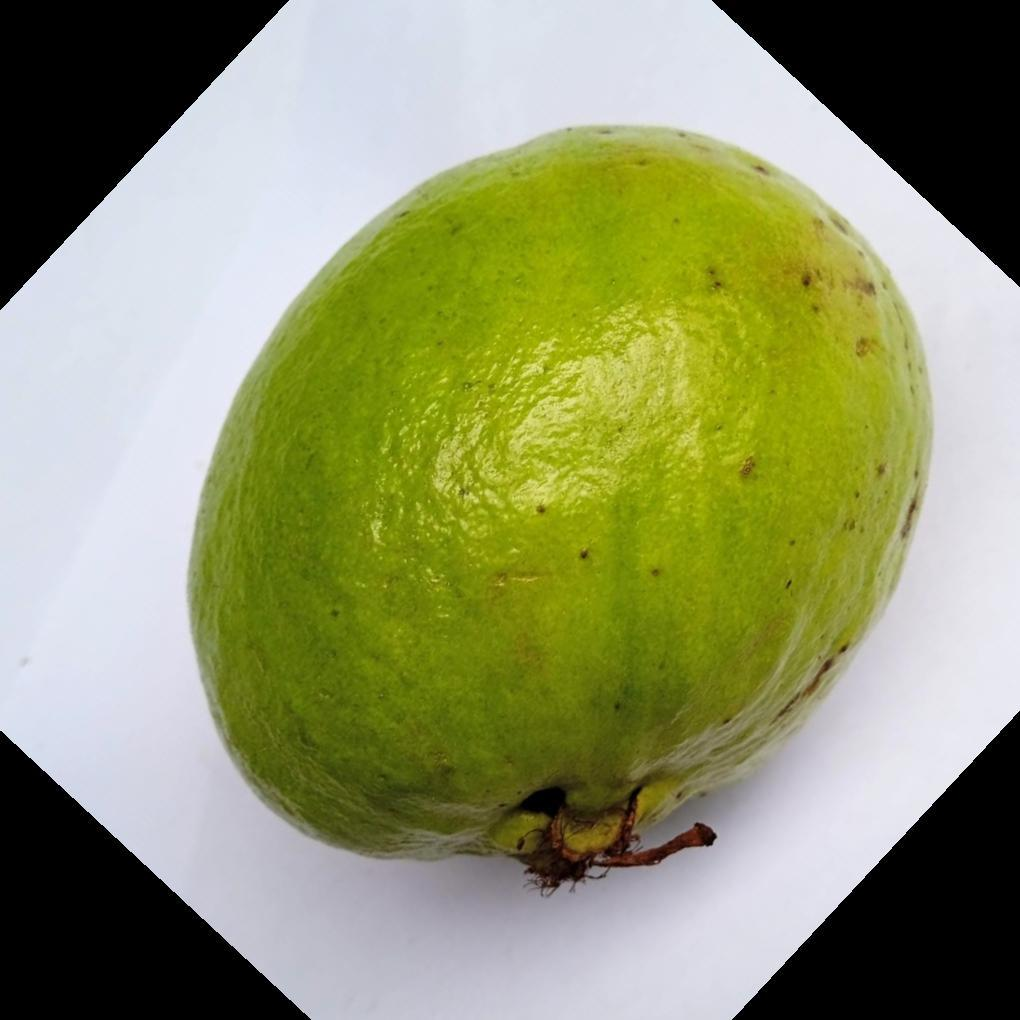FreshGuava: (183, 124, 934, 893)
